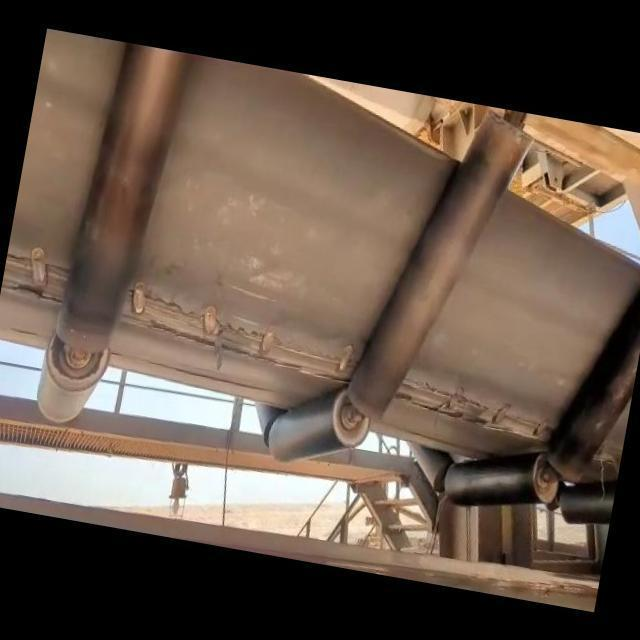Tear: (120, 271, 360, 385), (393, 367, 557, 453), (1, 242, 81, 316)
